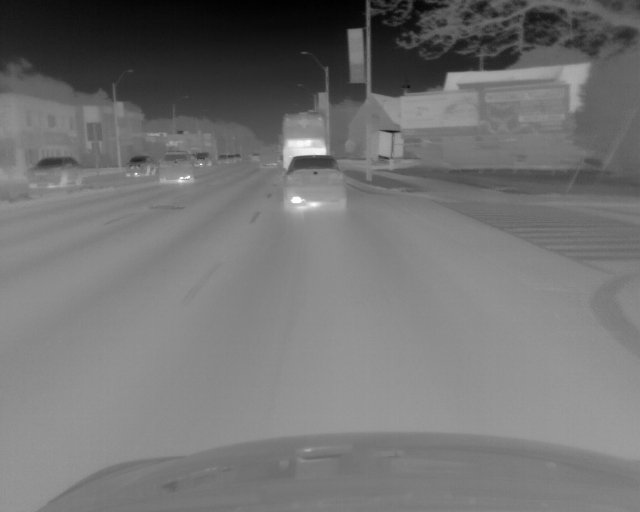car: (282, 155, 348, 211), (281, 112, 328, 171), (22, 157, 85, 190), (160, 152, 193, 183), (125, 155, 155, 178), (261, 148, 278, 167), (194, 152, 211, 166), (218, 154, 226, 164), (226, 155, 235, 163), (251, 153, 259, 161)
